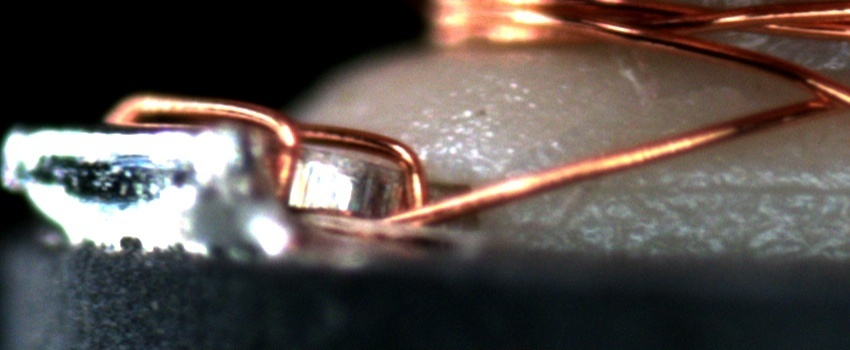CL: (777, 64, 847, 119)
DL: (579, 159, 850, 218)
TE: (104, 87, 441, 234)
